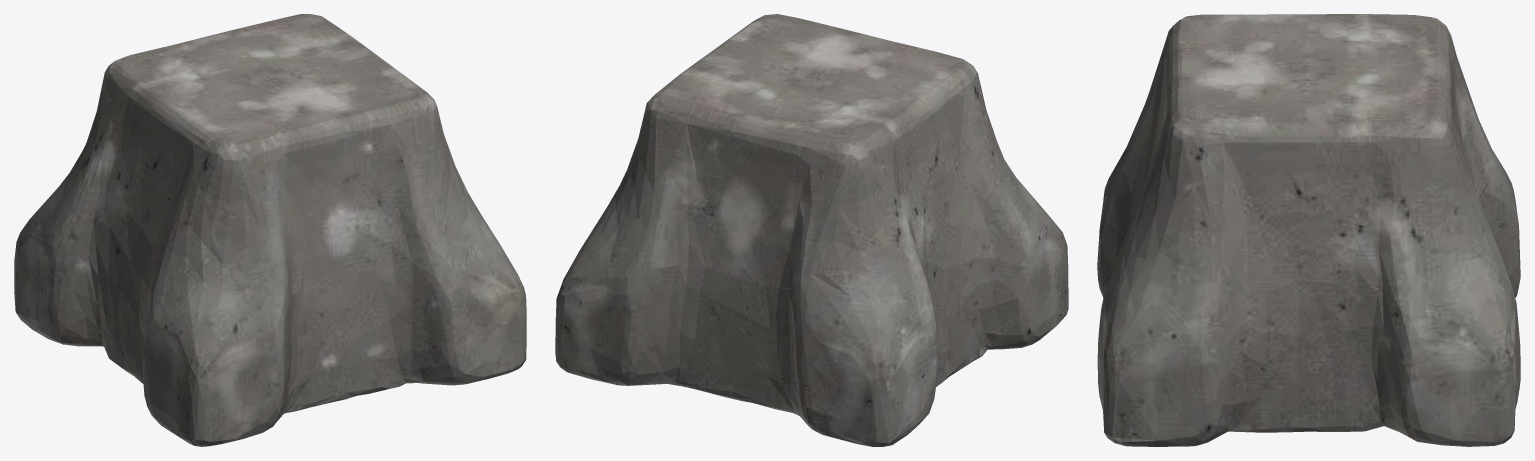
File: tetrapod.glb
3 views of the same model, side by side, from view 1: azimuth 30°, elevation 25°; view 2: azimuth 150°, elevation 25°; view 3: azimuth 270°, elevation 25° (orthographic). The views are drawn at different scales.
Parts seen in each view (by area): view 1: tetrapod; view 2: tetrapod; view 3: tetrapod.
Part boxes in pixels (<box>): tetrapod: <box>14,14,526,446</box>; tetrapod: <box>555,14,1068,446</box>; tetrapod: <box>1097,14,1520,446</box>.
Bounding box in the file's own units: 3.27 × 2.4 × 3.16.
Materials: 1 (1 with a texture image).
